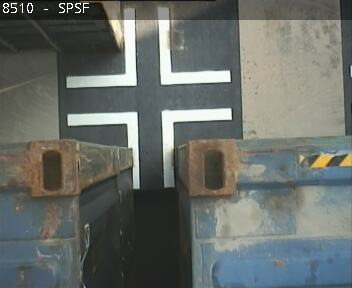groundmarker_1: (66, 106, 230, 189), (66, 8, 229, 87)
